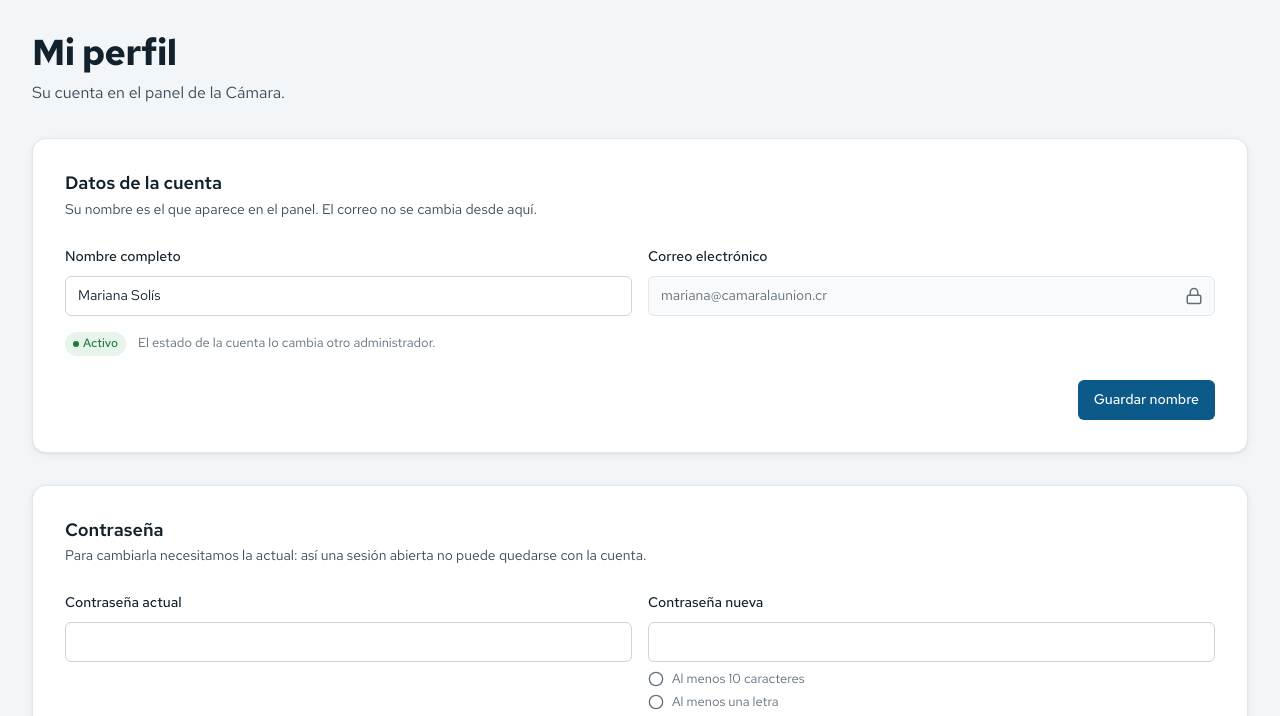
AdminProfilePage › changes the password and empties both fields
Type "Actual2026!" into the password field labelled "Contraseña actual". click: (348, 642)
box: [65,622,632,662]
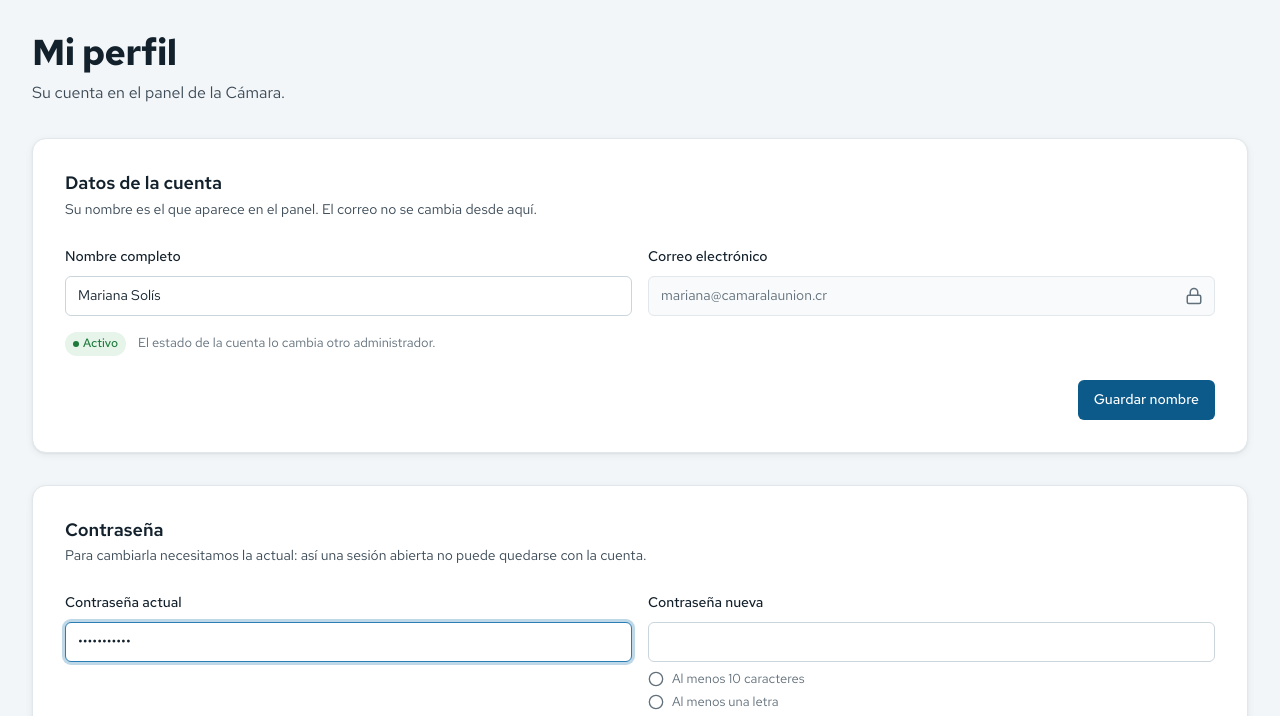
Type "Nueva2026!x" into the password field labelled "Contraseña nueva". click: (932, 642)
box: [648,622,1215,662]
(page scrolled)
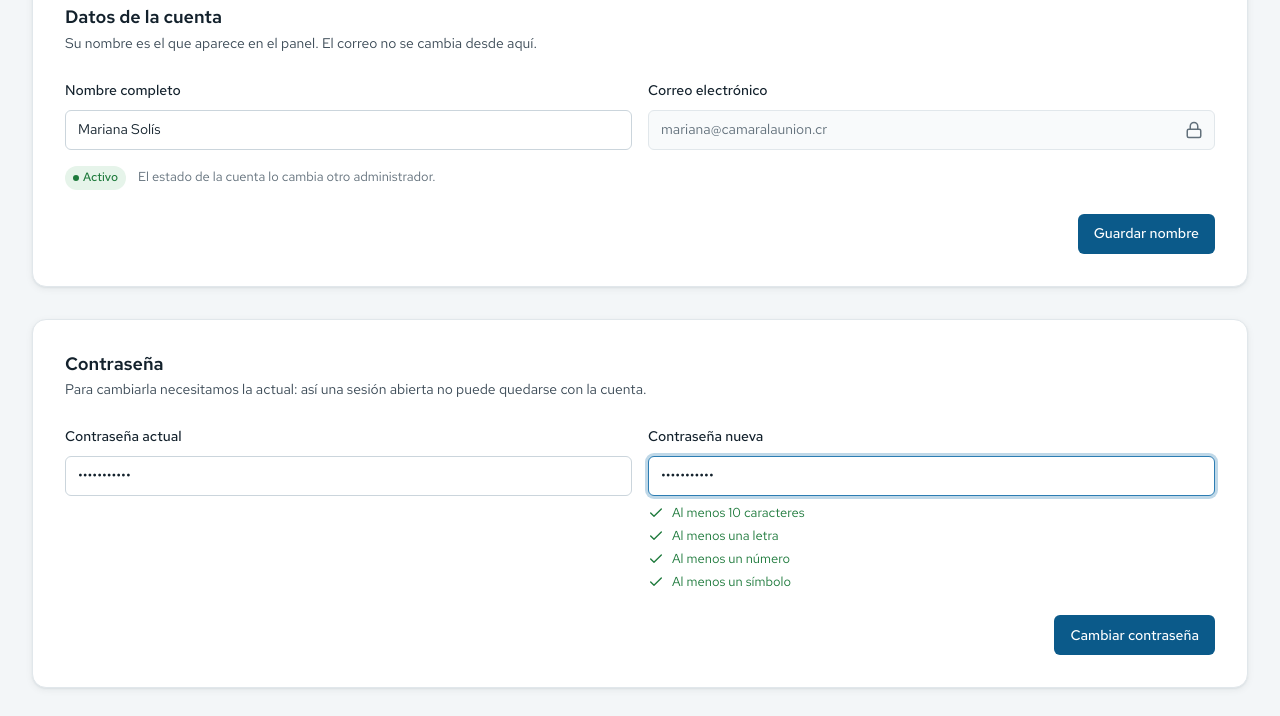
Click the button "Cambiar contraseña". click: click(1135, 635)
box: [1054,615,1215,655]
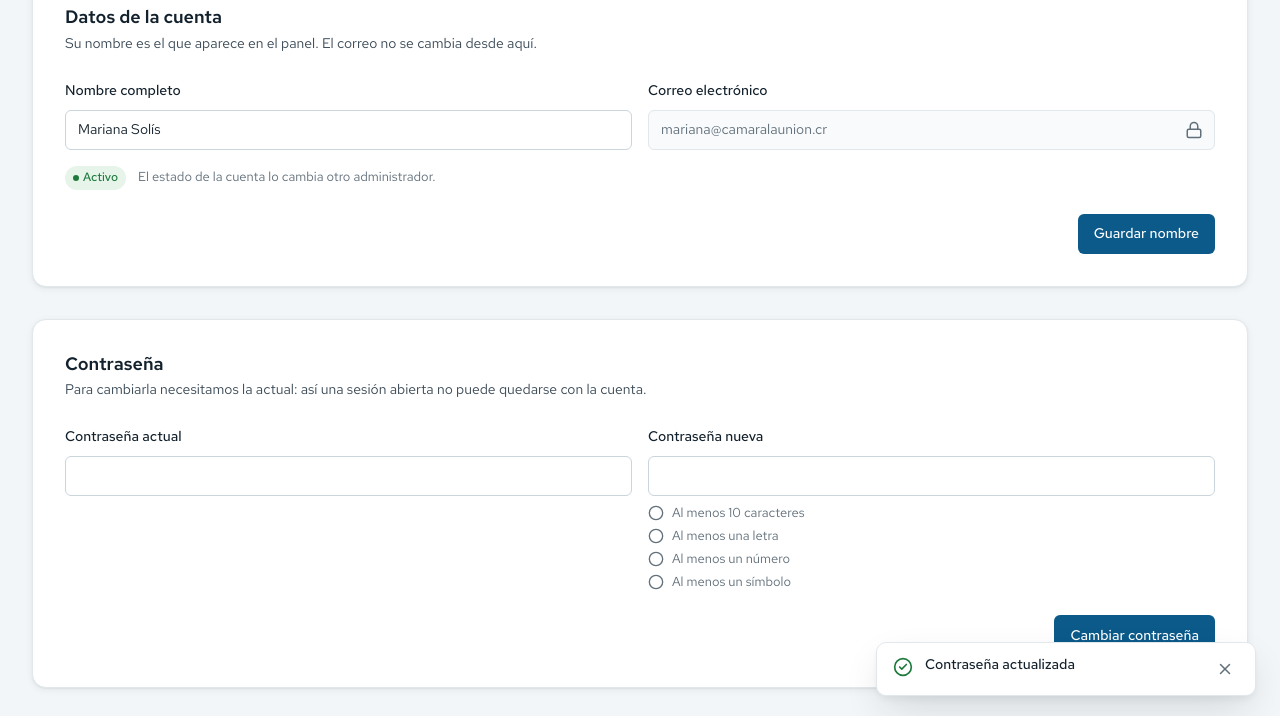
expect the text "Contraseña actualizada" is shown: met, box [925,655,1075,673]
expect the password field labelled "Contraseña nueva" is empty: met, box [648,456,1215,496]
